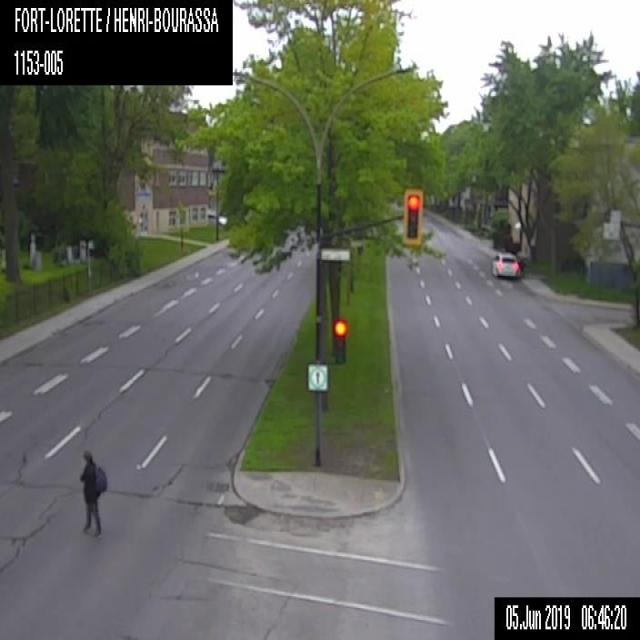pedestrian: (78, 448, 108, 537), (516, 255, 526, 277)
vehicle: (489, 252, 519, 279)
